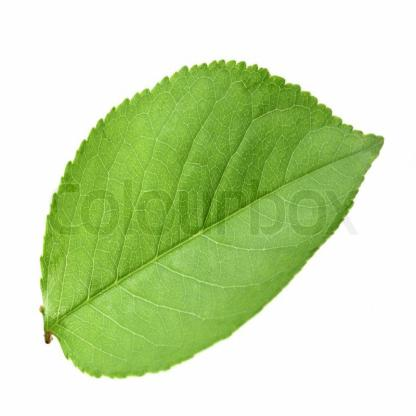apple leaf: (39, 57, 391, 386)
